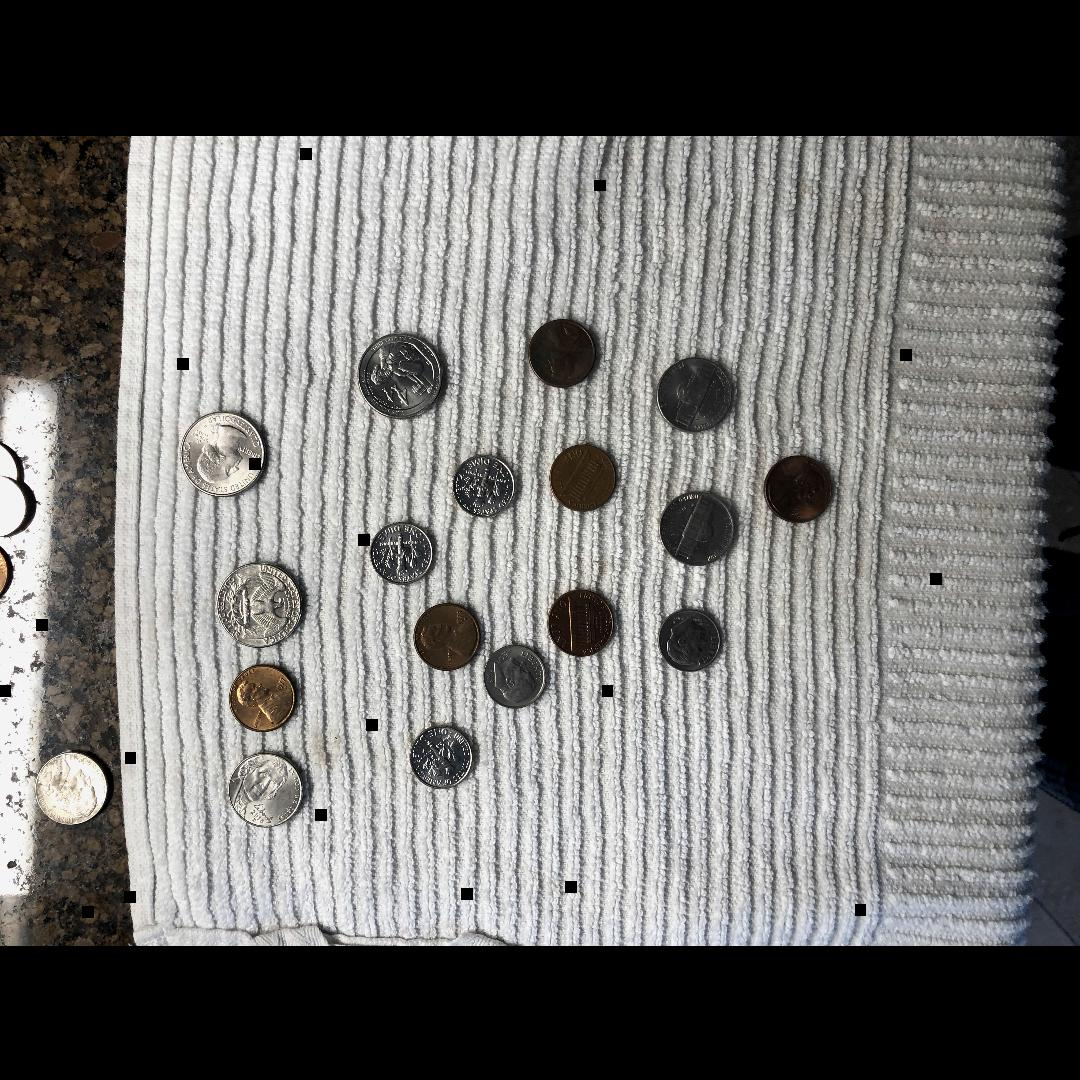Dime: (406, 720, 480, 788), (659, 602, 725, 675), (450, 451, 520, 517), (370, 519, 438, 584), (483, 642, 550, 706)
Nickel: (658, 486, 738, 566), (657, 351, 735, 433), (226, 750, 310, 824)
Penny: (526, 312, 602, 392), (762, 448, 837, 524), (547, 440, 619, 513), (546, 584, 618, 656), (413, 602, 483, 670), (226, 663, 298, 729)
Quarter: (215, 556, 312, 650), (353, 329, 449, 421), (178, 406, 270, 500)
